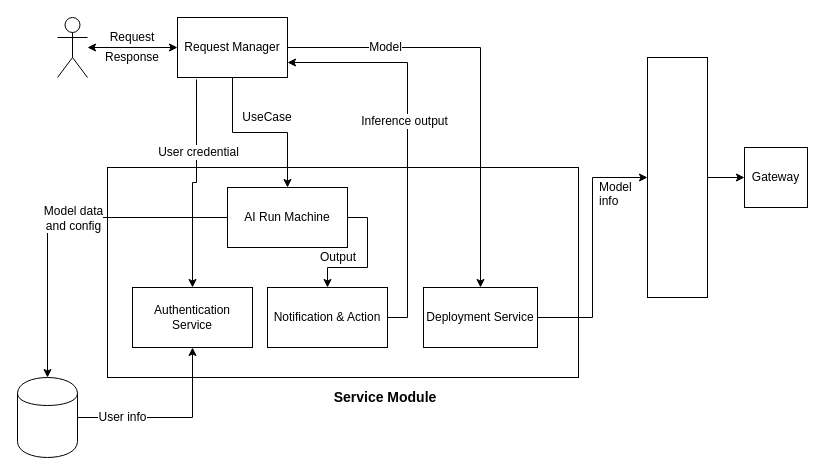
The diagram is 825 pixels wide and 475 high, and some of its shapes have lost their labels. Here are the shapes that lost their labels. From the top down, the centre of each, then its label:
At [72,47]: "User".
At [677,177]: "Message Broker".
At [47,417]: "repository".
